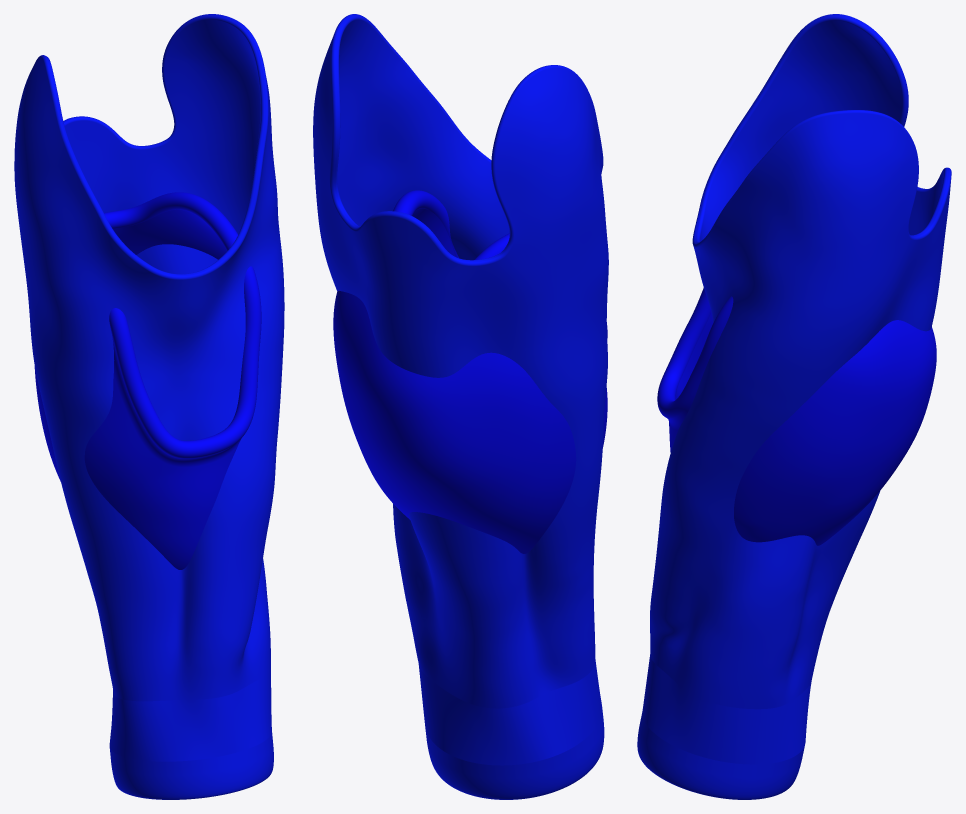
The picture shows the model from 3 angles, left to right: view 1: azimuth 30°, elevation 25°; view 2: azimuth 150°, elevation 25°; view 3: azimuth 270°, elevation 25°; orthographic projection. The views are drawn at different scales.
Parts seen in each view (by area): view 1: OS V3 Pom, IS V3 max Pom; view 2: OS V3 Pom, IS V3 max Pom; view 3: OS V3 Pom, IS V3 max Pom.
Boxes of the visible parts, x1,y1,x2,y2 form: OS V3 Pom: (14,14,284,799); IS V3 max Pom: (34,192,261,569); OS V3 Pom: (313,14,608,799); IS V3 max Pom: (333,190,607,553); OS V3 Pom: (637,14,951,799); IS V3 max Pom: (657,287,936,545).
Bounding box in the file's own units: 93.66 × 265 × 105.
